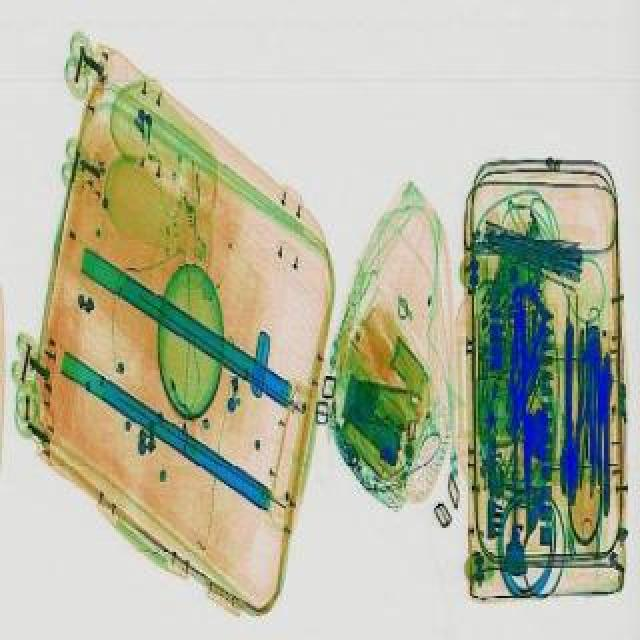scissors: (560, 318, 584, 502)
